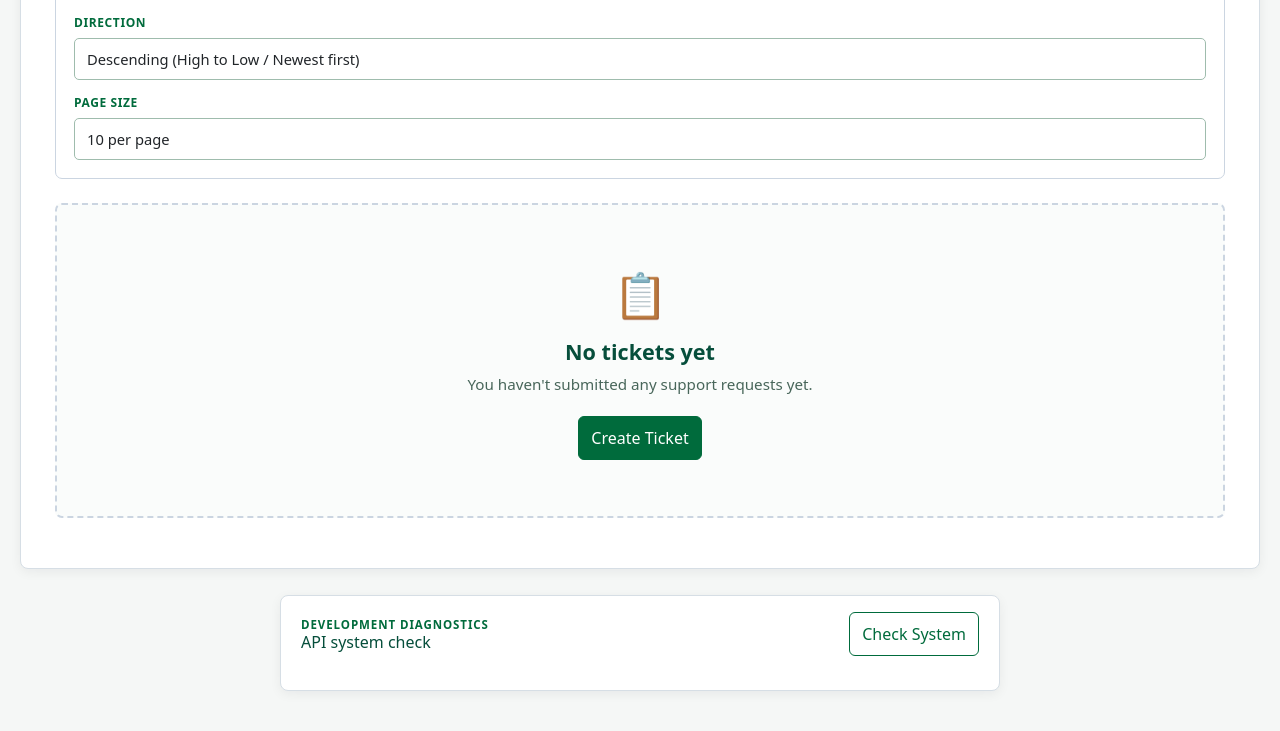
Scenario: App › shows an Offline error message when the API is unavailable
(page scrolled)
Step 1. Click the button "Check System" → (914, 634), box left=849, top=612, right=979, bottom=656
(page scrolled)
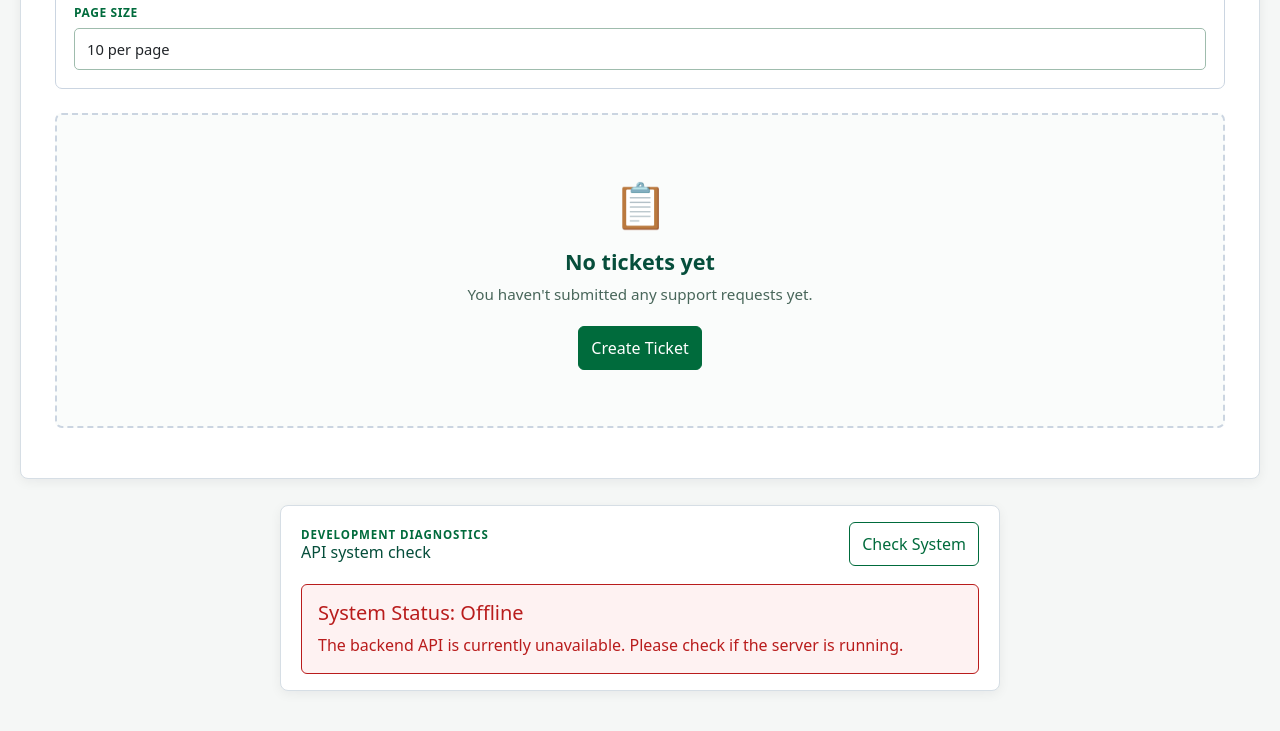
Expected: the heading "System Status: Offline" is shown, left=318, top=599, right=524, bottom=626
Expected: the text "backend API is currently unavailable" is shown, left=318, top=634, right=903, bottom=656
